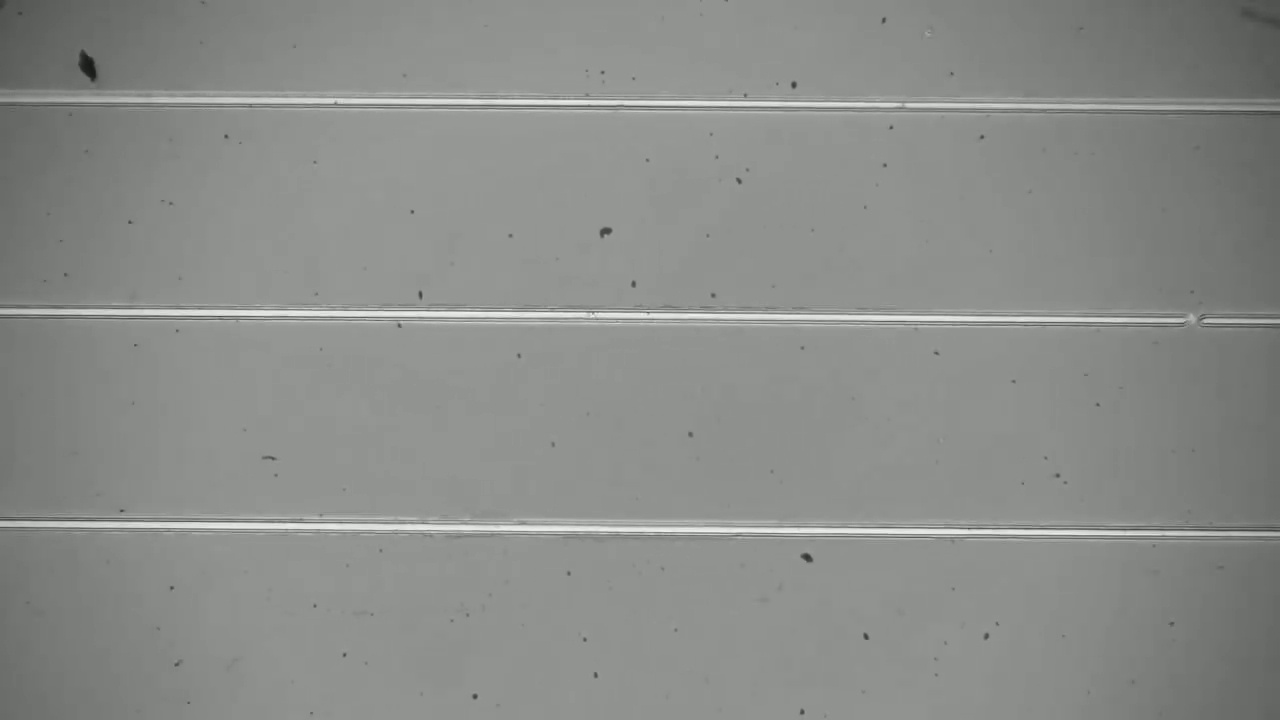open: (1168, 295, 1215, 340)
